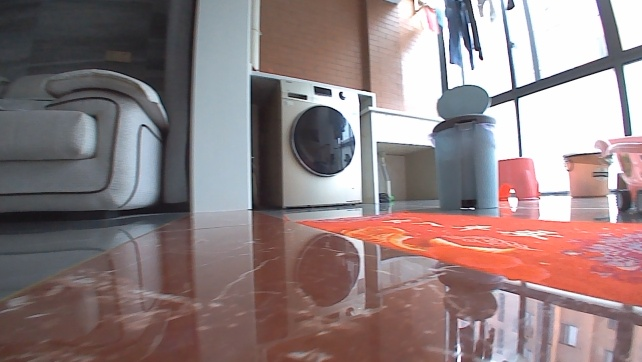blanket: (295, 207, 641, 307)
sofe1: (0, 62, 170, 219)
washing_machine: (257, 75, 364, 207)
